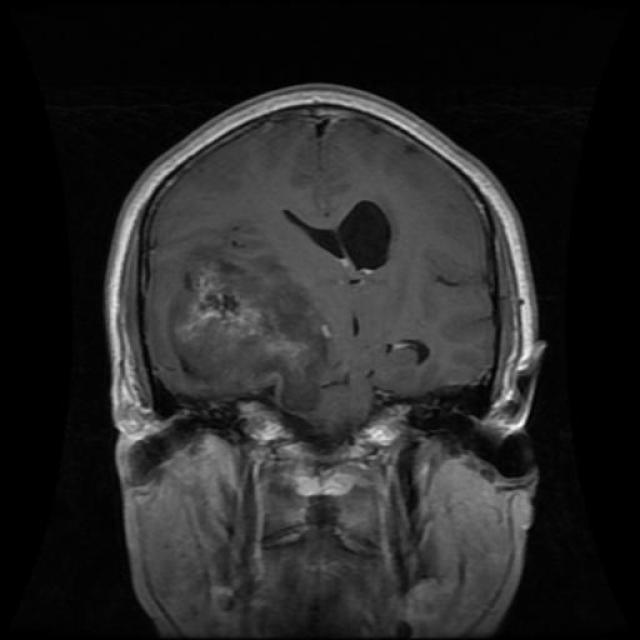glioma: (283, 197, 395, 286)
